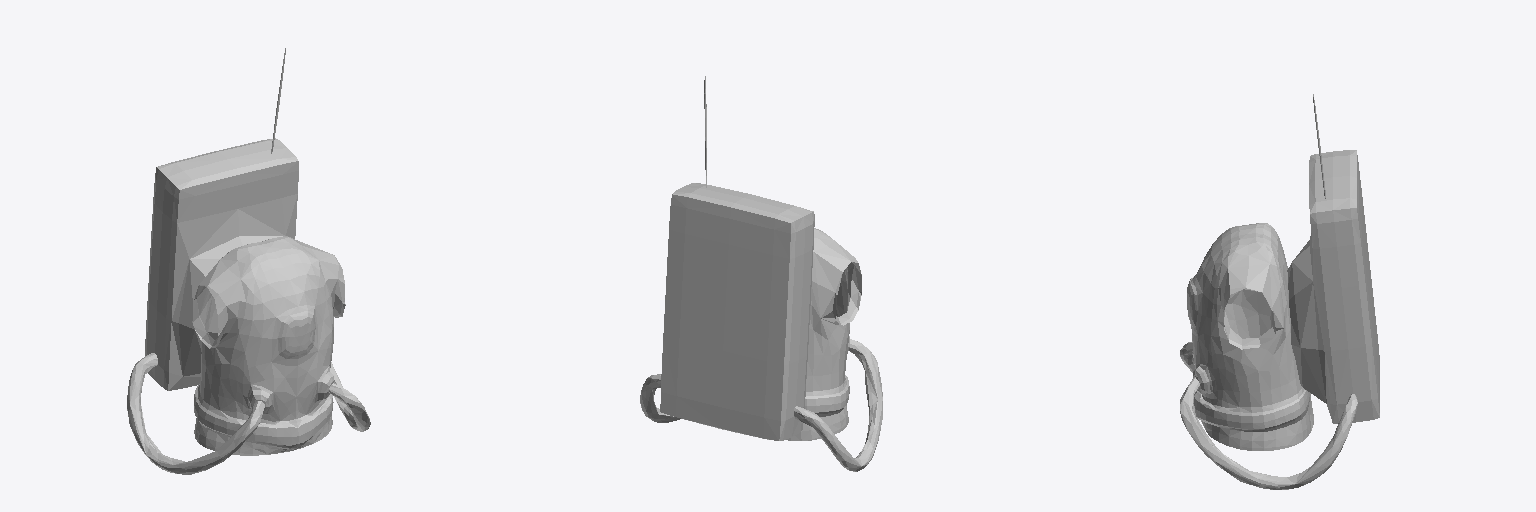
The model's file is body.obj.
The picture shows the model from 3 angles: view 1: azimuth 30°, elevation 25°; view 2: azimuth 150°, elevation 25°; view 3: azimuth 270°, elevation 25°; orthographic projection.
Parts seen in each view (by area): view 1: Mesh polySurface11 polySurface9 polySurface3, polySurface8 Mesh, Mesh polySurface5, Mesh polySurface2; view 2: polySurface8 Mesh, Mesh polySurface11 polySurface9 polySurface3, Mesh polySurface5, Mesh polySurface2; view 3: Mesh polySurface11 polySurface9 polySurface3, polySurface8 Mesh, Mesh polySurface2.
Part boxes in pixels (x1,y1,x2,y2): Mesh polySurface11 polySurface9 polySurface3: (192,236,345,455); polySurface8 Mesh: (145,138,298,390); Mesh polySurface5: (127,353,264,474); Mesh polySurface2: (329,362,370,431); polySurface8 Mesh: (660,183,814,440); Mesh polySurface11 polySurface9 polySurface3: (786,228,861,440); Mesh polySurface5: (794,339,882,471); Mesh polySurface2: (640,374,680,422); Mesh polySurface11 polySurface9 polySurface3: (1187,223,1313,450); polySurface8 Mesh: (1287,150,1379,423); Mesh polySurface2: (1180,377,1357,489).
Bounding box in the file's own units: 1.81 × 3.2 × 1.54.